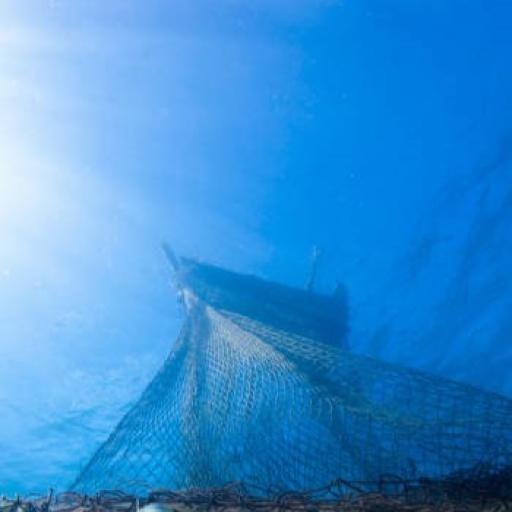net: (1, 221, 512, 512)
